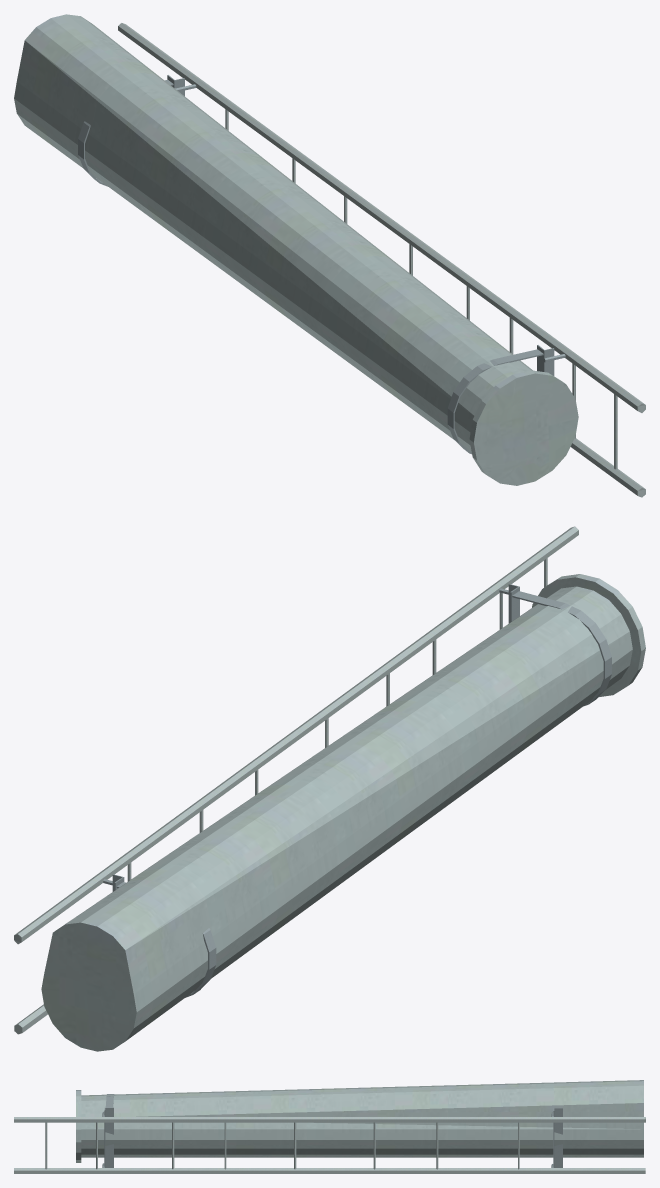
The model's file is jg-lmj-016-geode.glb.
The picture shows the model from 3 angles, top to bottom: view 1: azimuth 30°, elevation 25°; view 2: azimuth 150°, elevation 25°; view 3: azimuth 270°, elevation 25°; orthographic projection. The views are drawn at different scales.
Parts seen in each view (by area): view 1: Node; view 2: Node; view 3: Node.
Part boxes in pixels (bbox=[...]): Node: bbox=[14, 14, 645, 497]; Node: bbox=[14, 526, 645, 1051]; Node: bbox=[14, 1080, 645, 1173].
Bounding box in the file's own units: 0.6009 × 0.5926 × 4.47.
Materials: 4 (4 with a texture image).
